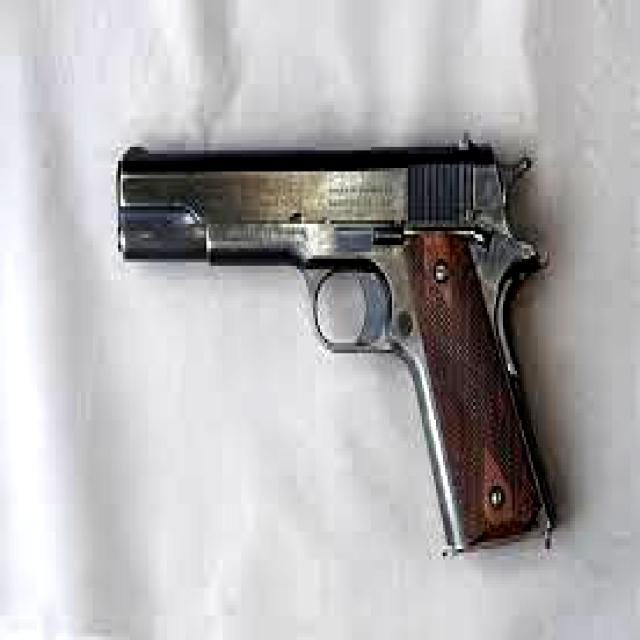semi automatic: (109, 128, 578, 569)
